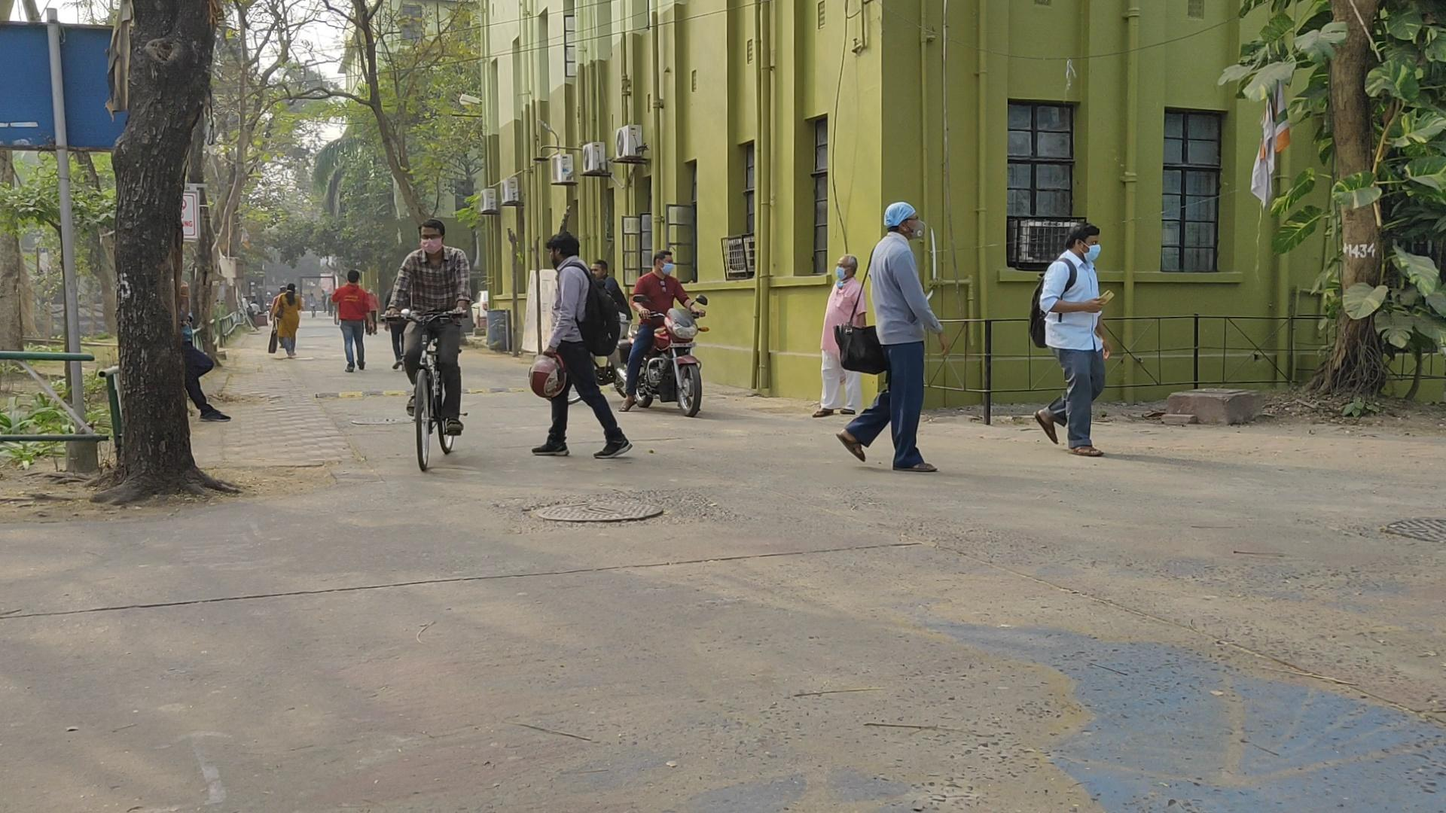bike: (392, 218, 472, 475), (631, 245, 706, 415)
